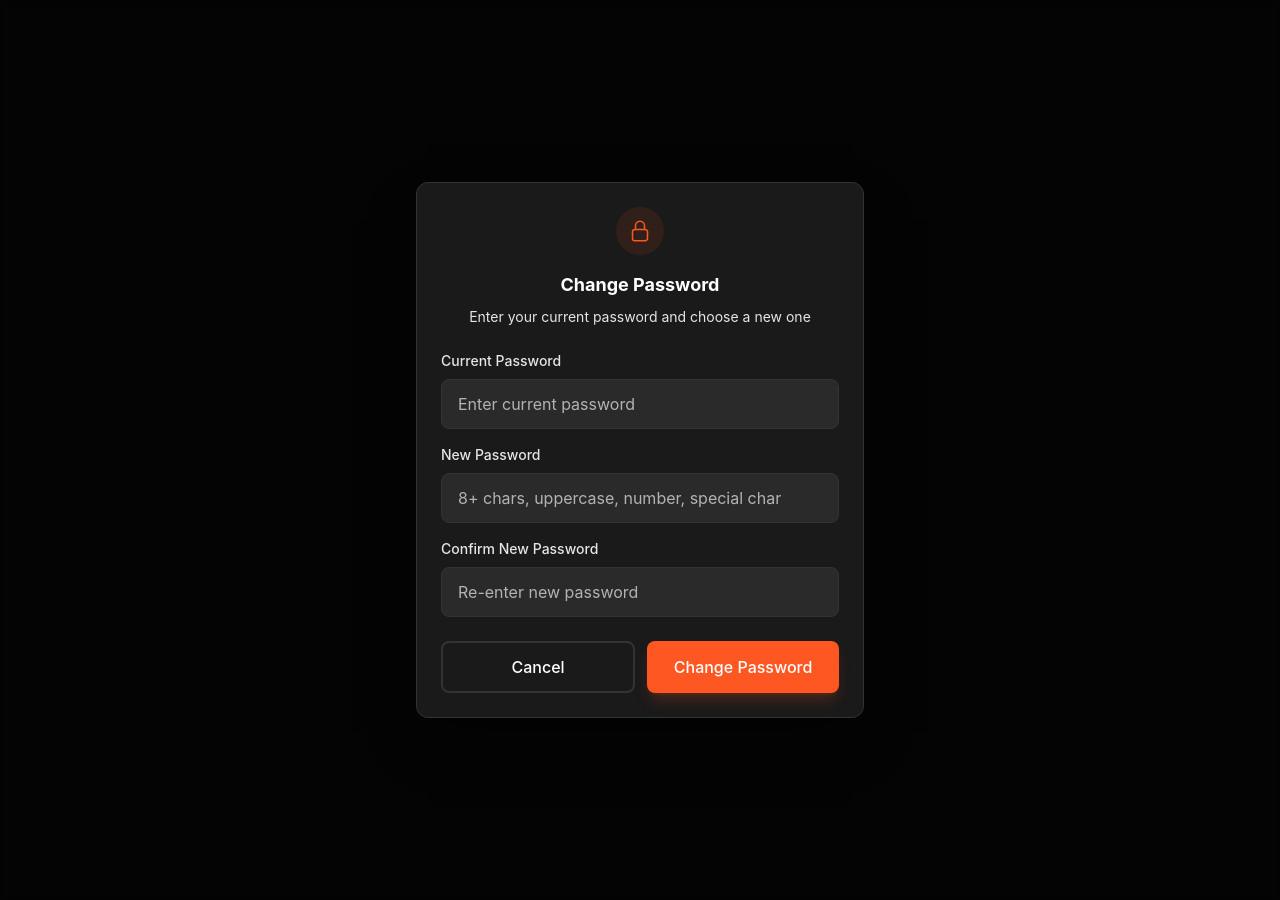
ChangePasswordModal › shows validation error for short password
Type "Password123!" into the password field labelled "Current Password" at (640, 404), box top-left (441, 379), bottom-right (839, 429)
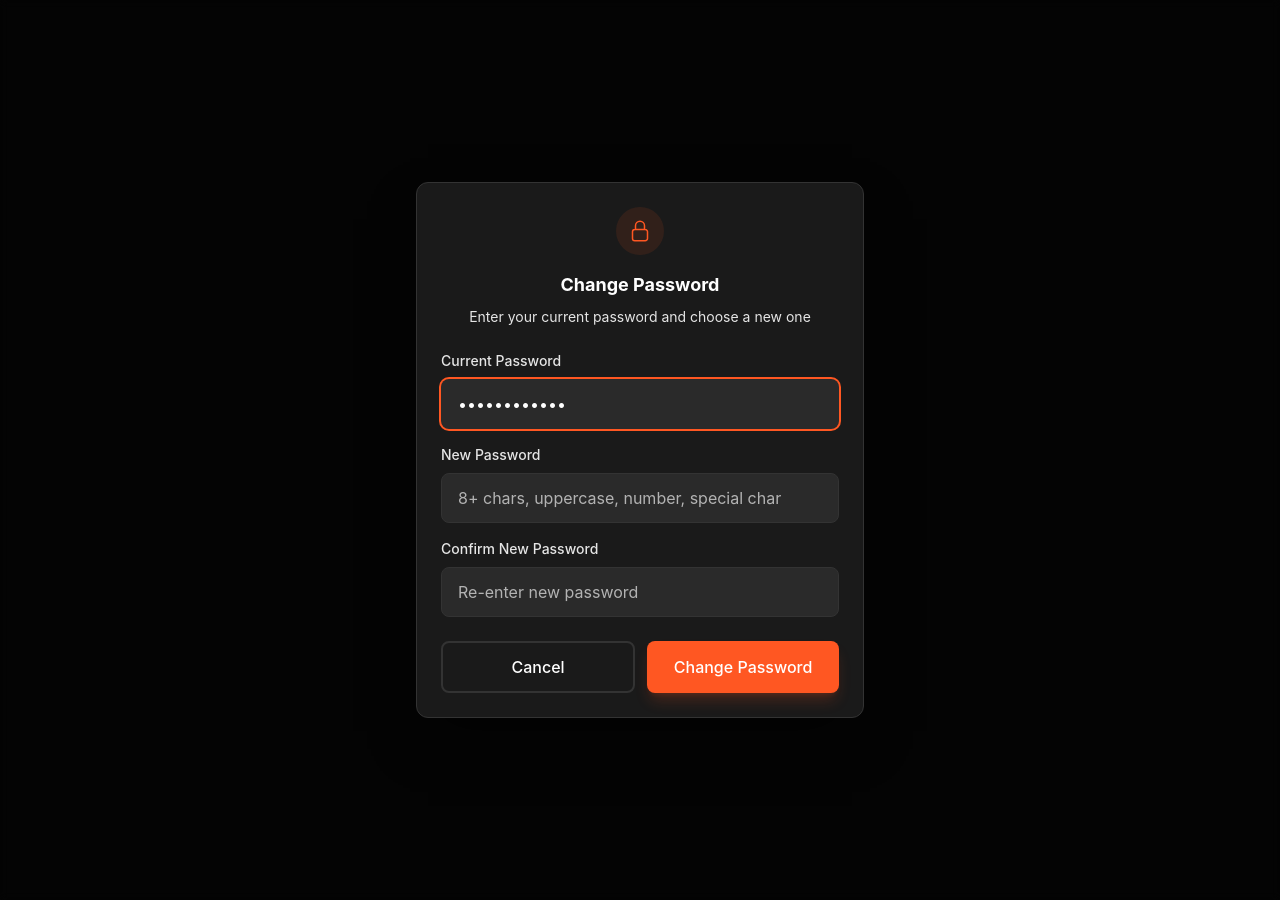
Type "Short1!" into the password field labelled "New Password" at (640, 498), box top-left (441, 473), bottom-right (839, 523)
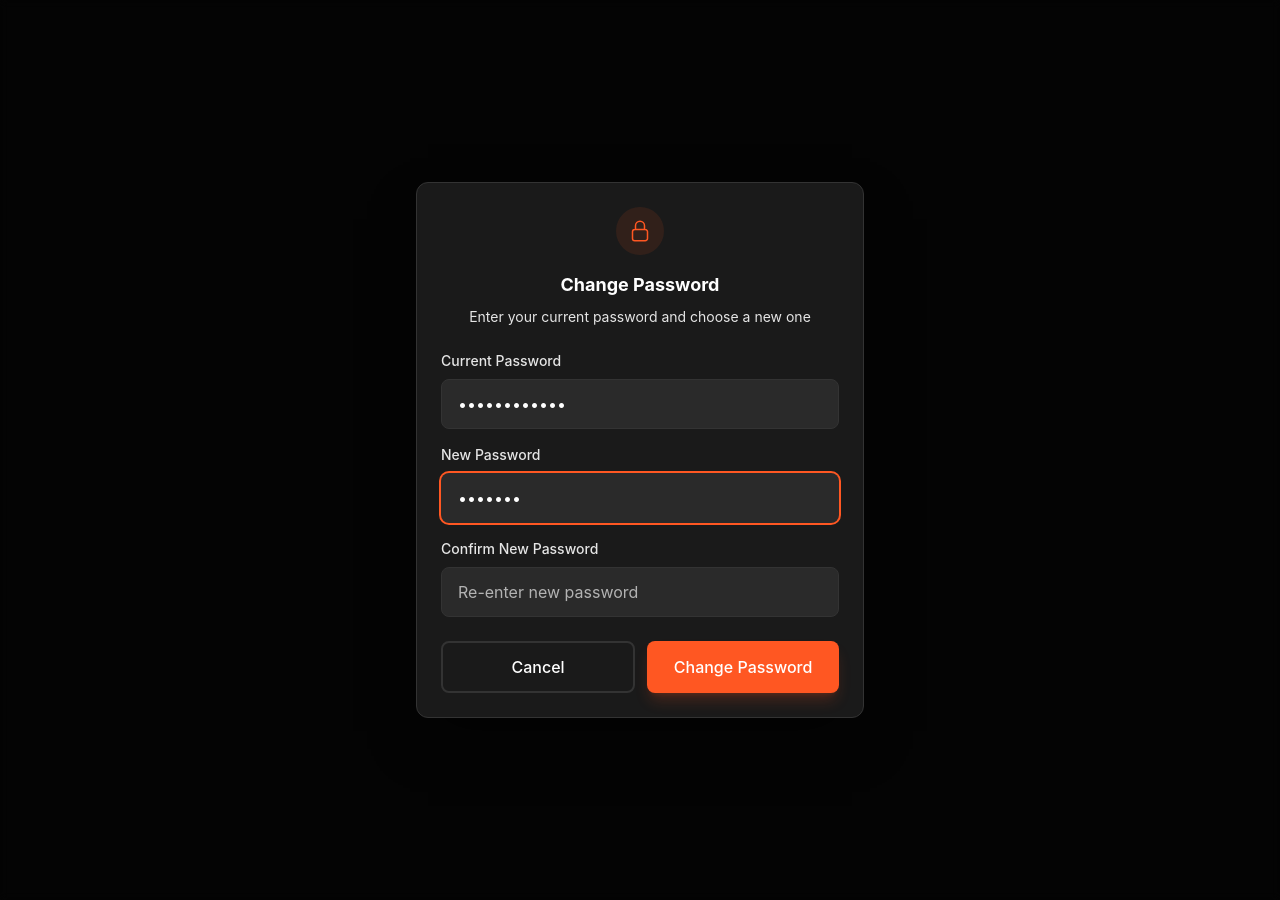
Type "Short1!" into the password field labelled "Confirm New Password" at (640, 592), box top-left (441, 567), bottom-right (839, 617)
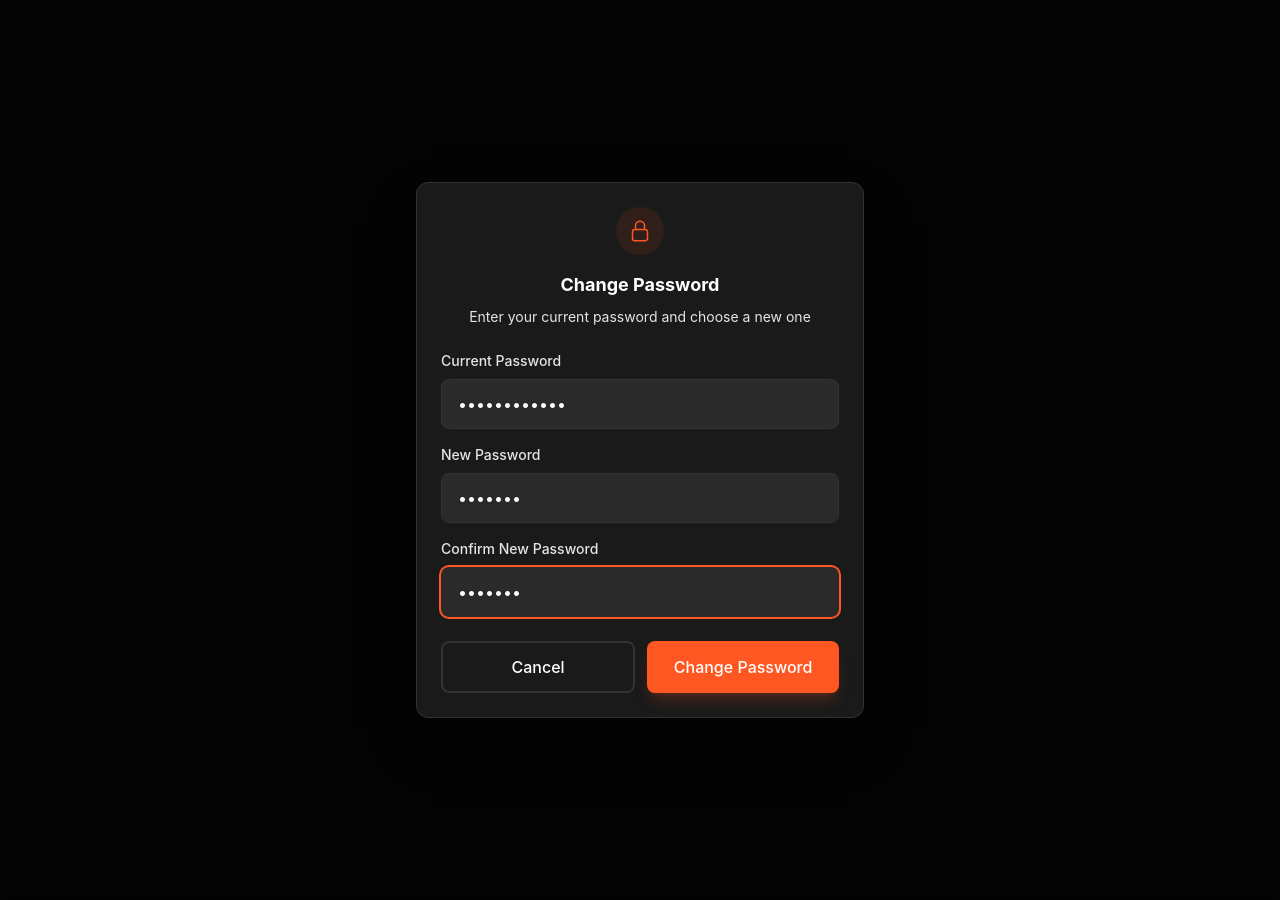
Click the button "Change Password" at (743, 667), box top-left (647, 641), bottom-right (839, 693)
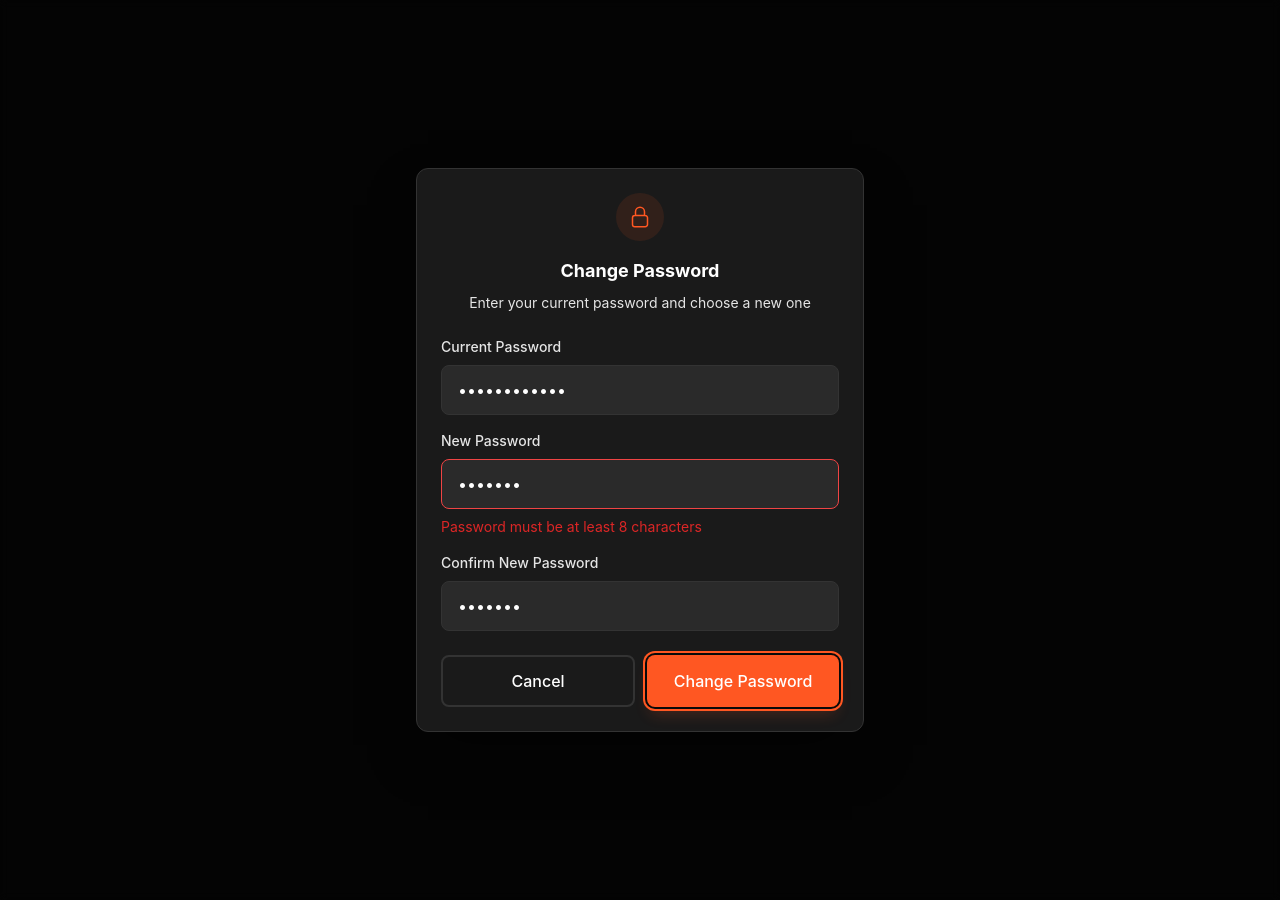
Expected: the text "Password must be at least 8 characters" is shown, top-left (441, 518), bottom-right (702, 535)
